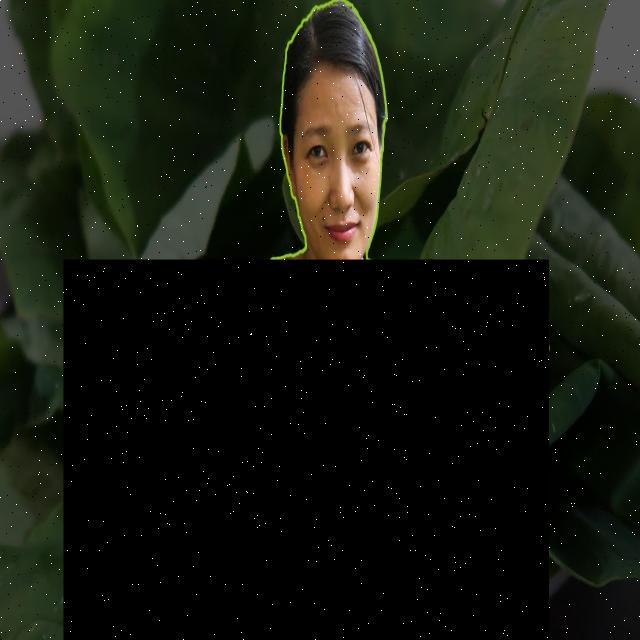Taro_Leaves: (64, 260, 549, 640)
